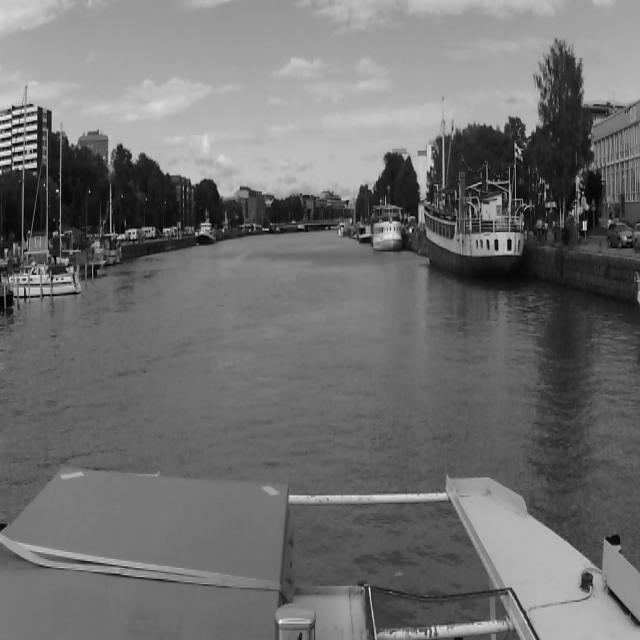ship: (0, 78, 87, 302), (421, 162, 527, 284), (27, 233, 109, 286), (372, 195, 404, 253), (193, 211, 217, 246), (355, 220, 373, 246)
